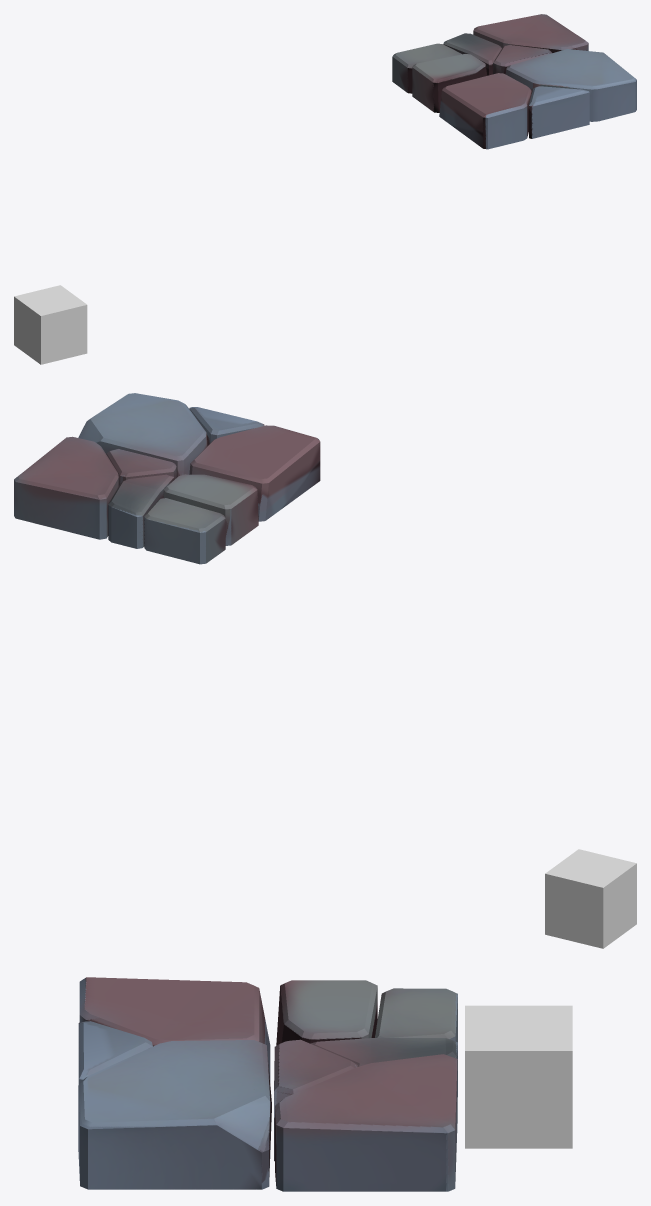
The model's file is award-floor009.fbx.
3 views of the same model, one above another, from view 1: azimuth 30°, elevation 25°; view 2: azimuth 150°, elevation 25°; view 3: azimuth 270°, elevation 25° (orthographic). The views are drawn at different scales.
Visible parts, largest first — view 1: Plane.038, award-floor009; view 2: Plane.038, award-floor009; view 3: Plane.038, award-floor009.
Boxes of the visible parts, box(x1,y1,x2,y2) form: Plane.038: box(392, 14, 636, 149); award-floor009: box(14, 285, 87, 364); Plane.038: box(14, 393, 320, 564); award-floor009: box(545, 849, 636, 948); Plane.038: box(78, 977, 457, 1191); award-floor009: box(465, 1005, 572, 1148).
Size of the model in its own units: 645 by 290 by 275.
